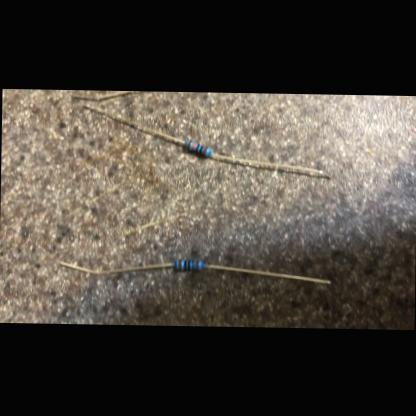resistor: (184, 140, 210, 154), (174, 258, 202, 270)
wire: (82, 103, 184, 142), (211, 151, 331, 175), (203, 264, 331, 282), (60, 260, 172, 274), (72, 88, 136, 100)
